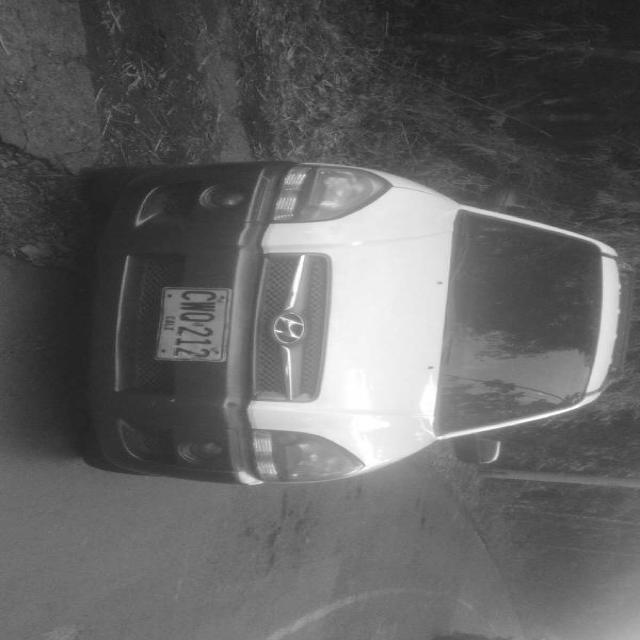plate: (151, 284, 240, 369)
